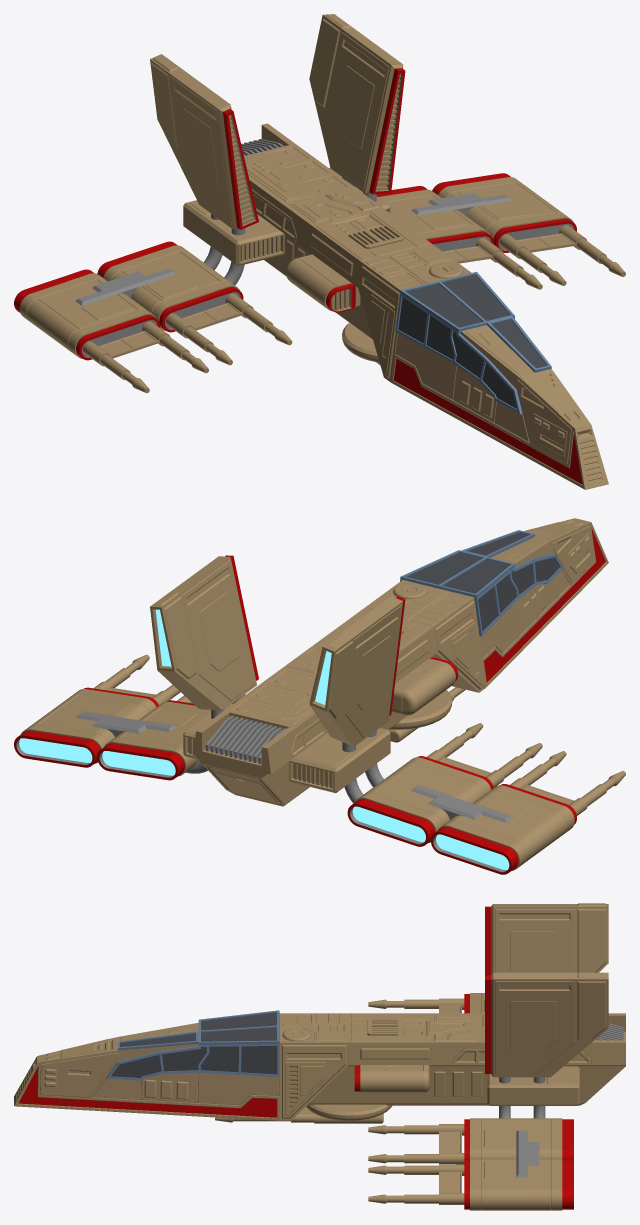
File: sw_moldy_crow.glb
The picture shows the model from 3 angles, top to bottom: view 1: azimuth 30°, elevation 25°; view 2: azimuth 150°, elevation 25°; view 3: azimuth 270°, elevation 25°; orthographic projection. The views are drawn at different scales.
Visible parts, largest first — view 1: Object_6, Object_5, Object_8, Object_7, Object_2, Object_9, Object_3; view 2: Object_6, Object_5, Object_7, Object_8, Object_9, Object_4, Object_2, Object_3; view 3: Object_6, Object_5, Object_7, Object_2, Object_8, Object_3, Object_9.
Boxes of the visible parts, x1=… form: Object_6: x1=19, y1=14, x2=608, y2=489; Object_5: x1=103, y1=123, x2=625, y2=365; Object_8: x1=14, y1=68, x2=582, y2=484; Object_7: x1=150, y1=54, x2=255, y2=229; Object_2: x1=398, y1=274, x2=547, y2=408; Object_9: x1=75, y1=139, x2=573, y2=356; Object_3: x1=395, y1=271, x2=551, y2=414; Object_6: x1=150, y1=518, x2=625, y2=870; Object_5: x1=20, y1=610, x2=542, y2=842; Object_7: x1=309, y1=596, x2=403, y2=746; Object_8: x1=14, y1=529, x2=605, y2=874; Object_9: x1=16, y1=694, x2=512, y2=872; Object_4: x1=19, y1=609, x2=509, y2=870; Object_2: x1=407, y1=532, x2=559, y2=631; Object_3: x1=400, y1=530, x2=563, y2=636; Object_6: x1=14, y1=972, x2=608, y2=1123; Object_5: x1=307, y1=1013, x2=625, y2=1210; Object_7: x1=491, y1=903, x2=608, y2=974; Object_2: x1=111, y1=1012, x2=277, y2=1077; Object_8: x1=18, y1=906, x2=573, y2=1209; Object_3: x1=106, y1=1010, x2=279, y2=1080; Object_9: x1=499, y1=1023, x2=623, y2=1177.
Size of the model in its own units: 1.34 by 0.5422 by 1.7.
